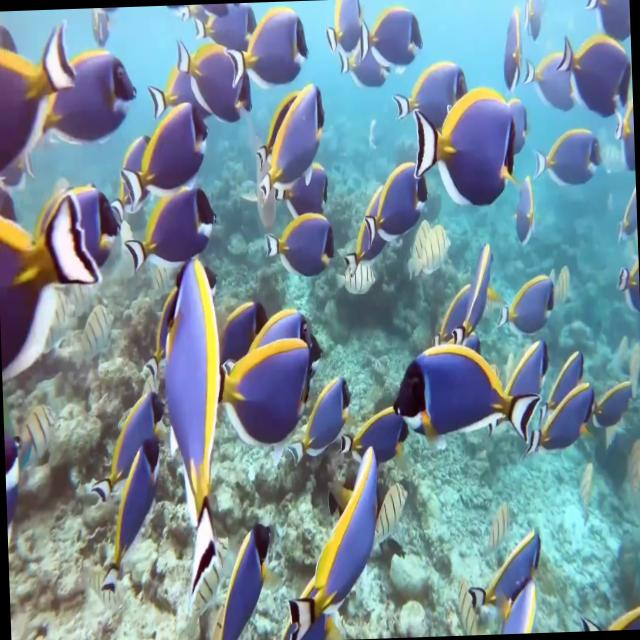fish: (158, 252, 232, 588), (283, 442, 384, 640), (392, 337, 542, 446), (10, 184, 124, 298), (412, 89, 516, 211), (19, 43, 140, 144), (97, 436, 169, 600), (212, 342, 315, 443), (120, 105, 213, 206), (90, 386, 164, 501), (253, 86, 325, 202), (213, 519, 278, 640), (125, 188, 218, 271), (168, 34, 255, 118), (468, 524, 546, 612), (226, 8, 306, 88), (362, 160, 430, 252), (444, 239, 497, 350), (562, 32, 630, 118), (289, 378, 356, 465), (394, 57, 471, 132), (524, 382, 596, 459), (266, 211, 336, 276), (522, 42, 578, 118), (358, 12, 426, 74), (536, 128, 600, 192), (495, 276, 552, 330), (338, 31, 391, 86), (404, 218, 450, 279), (322, 0, 368, 50), (334, 262, 376, 292)
